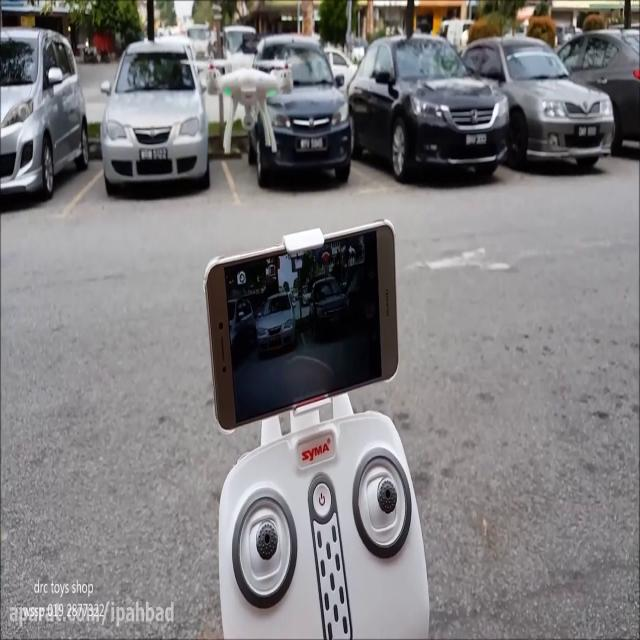drone: (198, 49, 302, 152)
